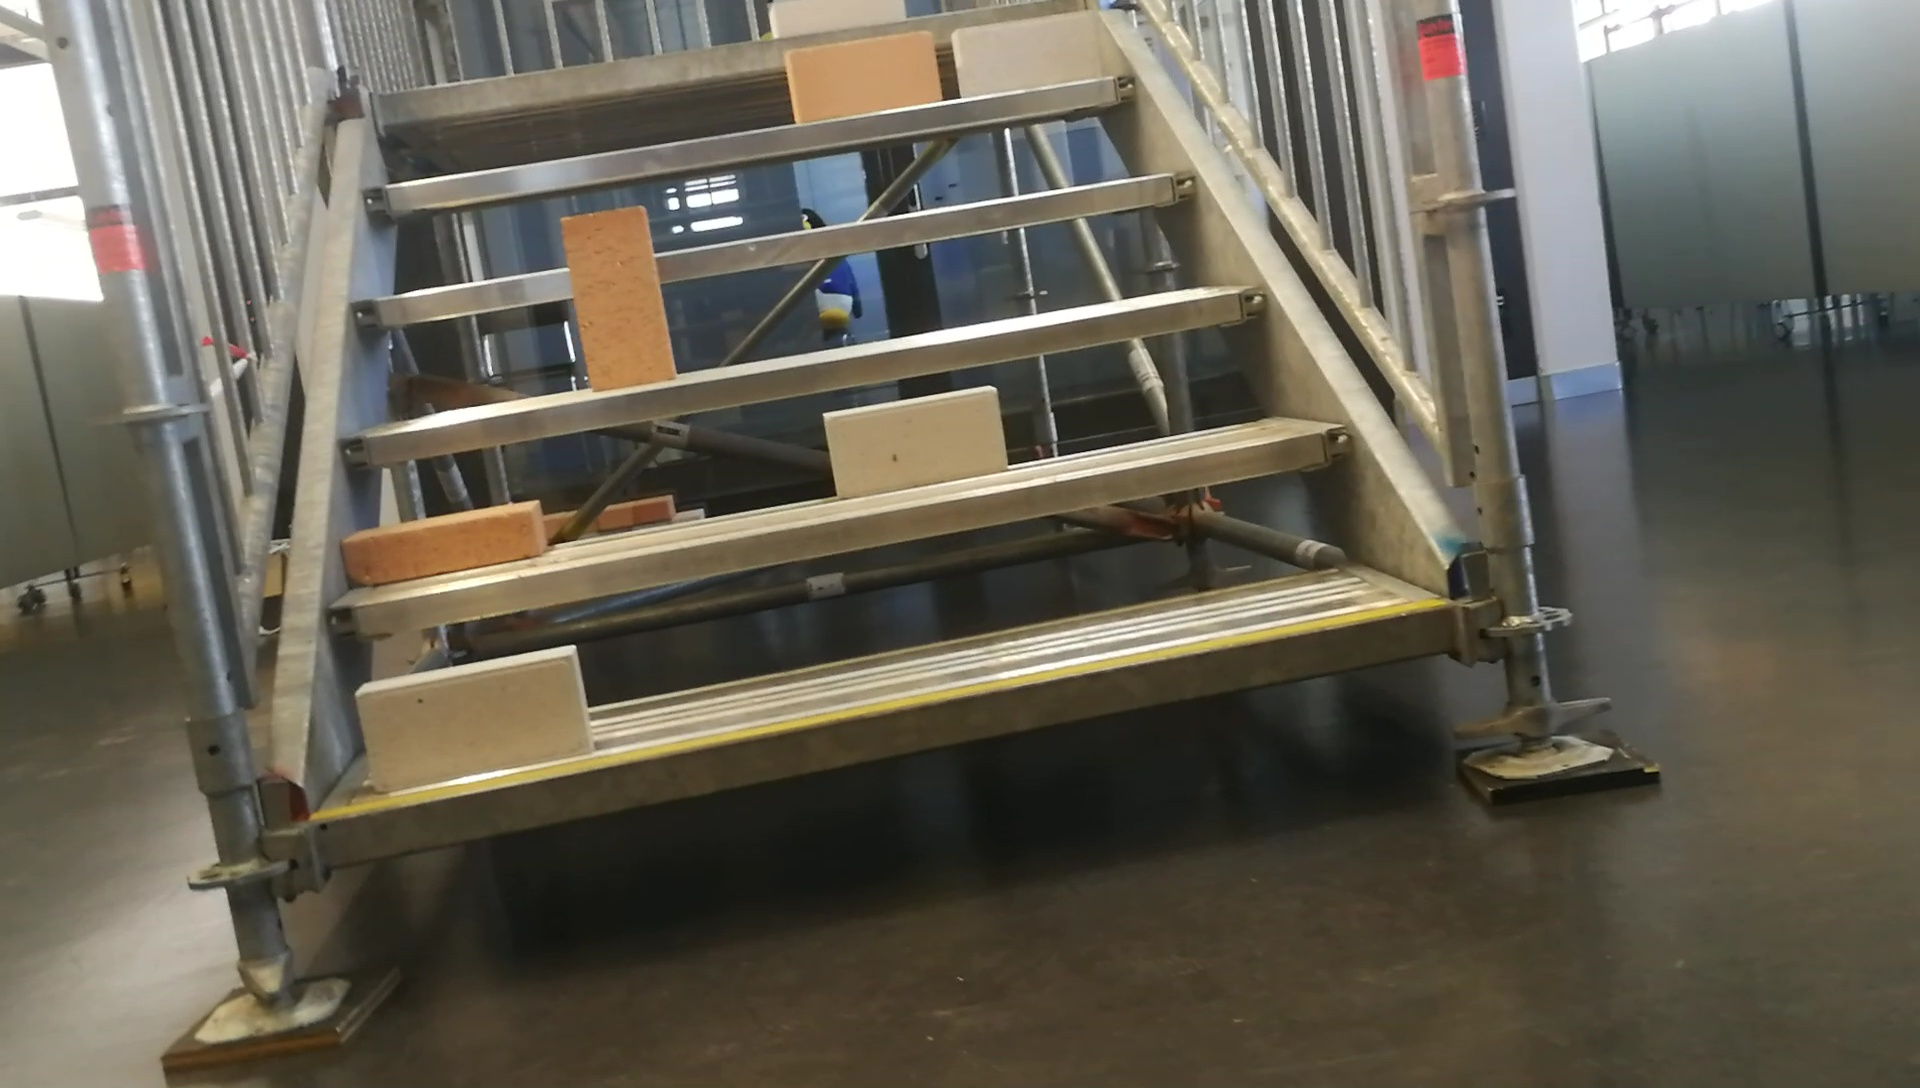brick: (355, 648, 592, 790), (563, 208, 675, 390), (823, 382, 1004, 495), (342, 500, 547, 586), (785, 28, 938, 123), (953, 9, 1097, 100), (767, 0, 905, 36)
edge: (320, 605, 1451, 862), (338, 427, 1345, 630), (343, 287, 1265, 458), (353, 171, 1195, 320), (367, 73, 1131, 208)
stairs: (162, 7, 1663, 1068)
steps: (305, 3, 1465, 880)
